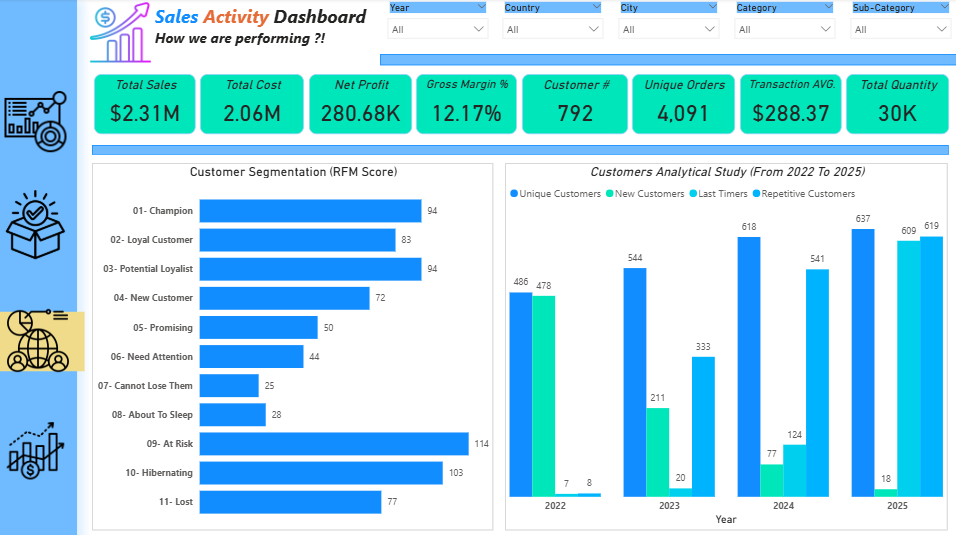

Layout of this report page (visuals, bound fields, positions):
{"tool":"powerbi","page":{"name":"Customer Segmentation Analysis","canvas":[1280,720],"ordinal":2},"visuals":[{"type":"shape","box":[0,0,105.3,720],"z":0},{"type":"clusteredBarChart","title":"Customer Segmentation (RFM Score)","fields":{"Category":["Dim - Customer Profiling (RFM Segmentation).Segment"],"Y":["CountNonNull(Dim - Customer Profiling (RFM Segmentation).Customer Key (PK))"]},"box":[124.2,219.6,533.2,487.8],"z":1000},{"type":"clusteredColumnChart","title":"Customers Analytical Study (From 2022 To 2025)","fields":{"Category":["_Dim - Calendar._Dim Calendar Hierarchy.Year","_Dim - Calendar._Dim Calendar Hierarchy.Quarter","_Dim - Calendar._Dim Calendar Hierarchy.Month No.","_Dim - Calendar._Dim Calendar Hierarchy.Mnonth Name","_Dim - Calendar._Dim Calendar Hierarchy.Week No. Monthly"],"Y":["_Key Measures (RFM).Unique Customers","_Key Measures (RFM).New Customers","_Key Measures (RFM).Last Timers","_Key Measures (RFM).Repetitive Customers"]},"box":[674.1,219.6,587.7,487.8],"z":2000},{"type":"slicer","fields":{"Values":["Dim - Country.Country"]},"box":[660.5,-0.3,154,62.5],"z":3000},{"type":"image","box":[2.4,255.7,93.7,92.1],"z":4000},{"type":"card","title":"Total Sales","fields":{"Values":["_Key Measures.01. Total Sales"]},"box":[127.5,100.6,135.1,79.8],"z":5000},{"type":"image","box":[4.8,122.3,88.9,84.2],"z":6000},{"type":"slicer","fields":{"Values":["_Dim - Calendar._Dim Calendar Hierarchy.Year"]},"box":[507.8,-0.3,153.7,62.5],"z":7000},{"type":"image","box":[4.8,562.2,88.9,79.4],"z":8000},{"type":"image","box":[0,407.8,115,97],"z":8750,"group":"g1"},{"type":"group","id":"g1","title":"Group 5","box":[0,407.8,115,97],"z":9000},{"type":"image","box":[10.5,410.2,85.2,88.2],"z":9250,"group":"g1"},{"type":"slicer","fields":{"Values":["Dim - City.City"]},"box":[814.5,-0.3,154,61.3],"z":10000},{"type":"slicer","fields":{"Values":["Dim - Sub-Category.Sub-Category"]},"box":[1122.5,-0.3,154,61.3],"z":11000},{"type":"textbox","box":[203.4,2.5,304.9,84.2],"z":12000},{"type":"slicer","fields":{"Values":["Dim - Category.Category"]},"box":[968.5,-0.3,154,61.3],"z":13000},{"type":"image","box":[122.6,2.5,80.9,86],"z":14000},{"type":"card","title":"Total Cost","fields":{"Values":["_Key Measures.02. Cost of Goods Sold (COGS)"]},"box":[268.8,100.6,138.2,80.3],"z":15000},{"type":"shape","box":[124.6,195.7,1138.3,13.4],"z":16000},{"type":"shape","box":[507,74.7,773,15],"z":17000},{"type":"card","title":"Net Profit","fields":{"Values":["_Key Measures.03. Net Profit Value"]},"box":[413,100.6,136.6,80.3],"z":18000},{"type":"card","title":"Total Quantity","fields":{"Values":["_Key Measures.10 Total Quantity"]},"box":[1126.8,100.6,136.6,80.3],"z":19000},{"type":"card","title":"Transaction AVG.","fields":{"Values":["_Key Measures.09. Transaction Avg"]},"box":[985.6,100.6,135.1,80.3],"z":20000},{"type":"card","title":"Gross Margin %","fields":{"Values":["_Key Measures.04. Gross Margin % (GM %)"]},"box":[555.8,100.6,133.5,80.3],"z":21000},{"type":"card","title":"Customer #","fields":{"Values":["_Key Measures.06. Unique Customers"]},"box":[695.5,100.6,141.2,80.3],"z":22000},{"type":"card","title":"Unique Orders","fields":{"Values":["_Key Measures.08. Unique Orders"]},"box":[842.9,100.6,136.6,80.3],"z":23000}]}

Visuals, with their boxes in screenshot pixels (x1, y1, x2, y2), scaled from the page's 1280x720 canvas onto the 956x535 screenshot:
shape: box(0, 0, 79, 534)
"Customer Segmentation (RFM Score)" clusteredBarChart: box(93, 163, 491, 526)
"Customers Analytical Study (From 2022 To 2025)" clusteredColumnChart: box(503, 163, 942, 526)
slicer - Dim - Country.Country: box(493, 0, 608, 46)
image: box(2, 190, 72, 258)
"Total Sales" card: box(95, 75, 196, 134)
image: box(4, 91, 70, 153)
slicer - _Dim - Calendar._Dim Calendar Hierarchy.Year: box(379, 0, 494, 46)
image: box(4, 418, 70, 477)
image: box(0, 303, 86, 375)
"Group 5" group: box(0, 303, 86, 375)
image: box(8, 305, 71, 370)
slicer - Dim - City.City: box(608, 0, 723, 45)
slicer - Dim - Sub-Category.Sub-Category: box(838, 0, 953, 45)
textbox: box(152, 2, 380, 64)
slicer - Dim - Category.Category: box(723, 0, 838, 45)
image: box(92, 2, 152, 66)
"Total Cost" card: box(201, 75, 304, 134)
shape: box(93, 145, 943, 155)
shape: box(379, 56, 955, 67)
"Net Profit" card: box(308, 75, 410, 134)
"Total Quantity" card: box(842, 75, 944, 134)
"Transaction AVG." card: box(736, 75, 837, 134)
"Gross Margin %" card: box(415, 75, 515, 134)
"Customer #" card: box(519, 75, 625, 134)
"Unique Orders" card: box(630, 75, 732, 134)
